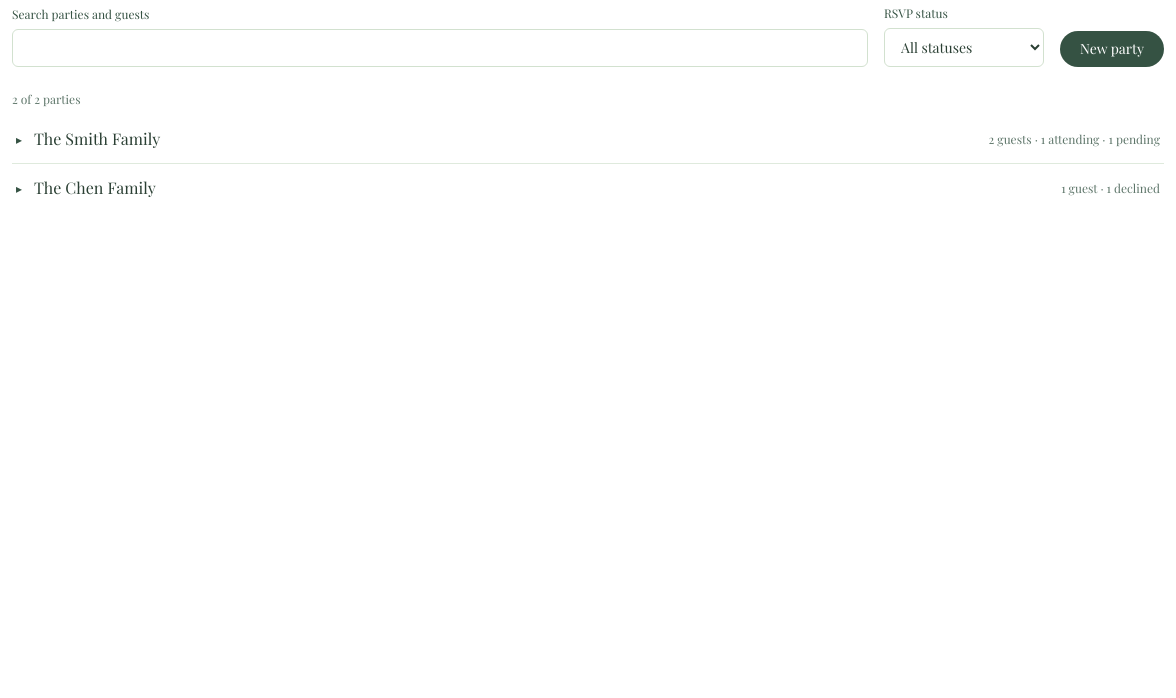
Test case: PartyManager › reveals a party’s guests when its row is expanded
Expected: the text "The Smith Family" is shown, [34, 127, 160, 151]
Expected: the text "Jane Smith" is not shown
Click the button "▸ The Smith Family 2 guests · 1 attending · 1 pending". click: click(97, 138)
box: [12, 115, 1164, 163]
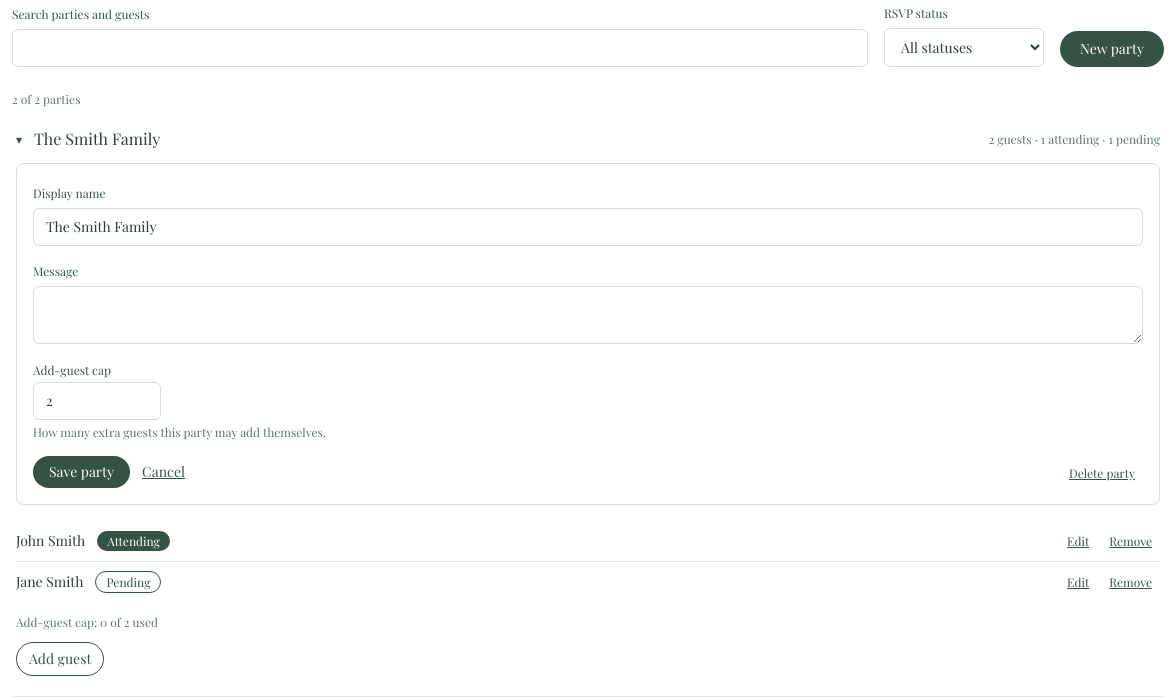
Now the text "Jane Smith" is shown, box [16, 572, 84, 592]
Now the field labelled "Display name" holds "The Smith Family", box [33, 208, 1143, 246]
